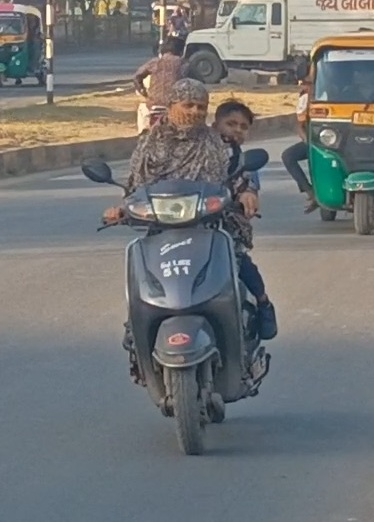BikeWithRider: (78, 73, 277, 456)
NoHelmet: (164, 77, 212, 136), (211, 97, 253, 148)
